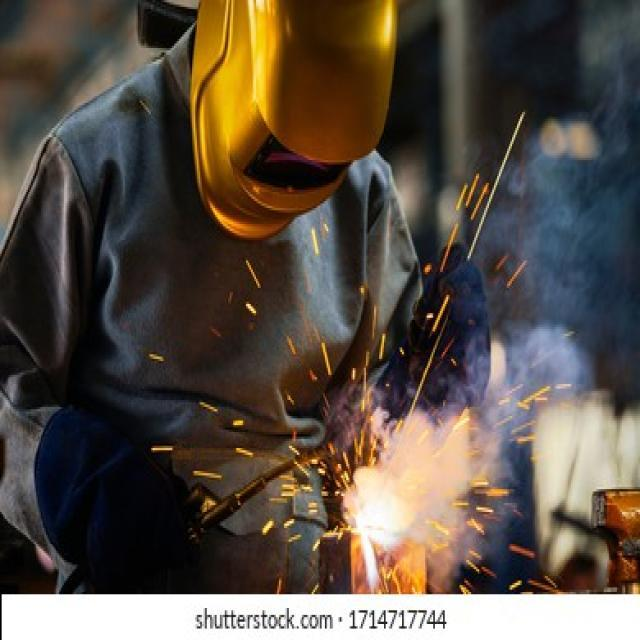with_helmet: (0, 0, 424, 529)
